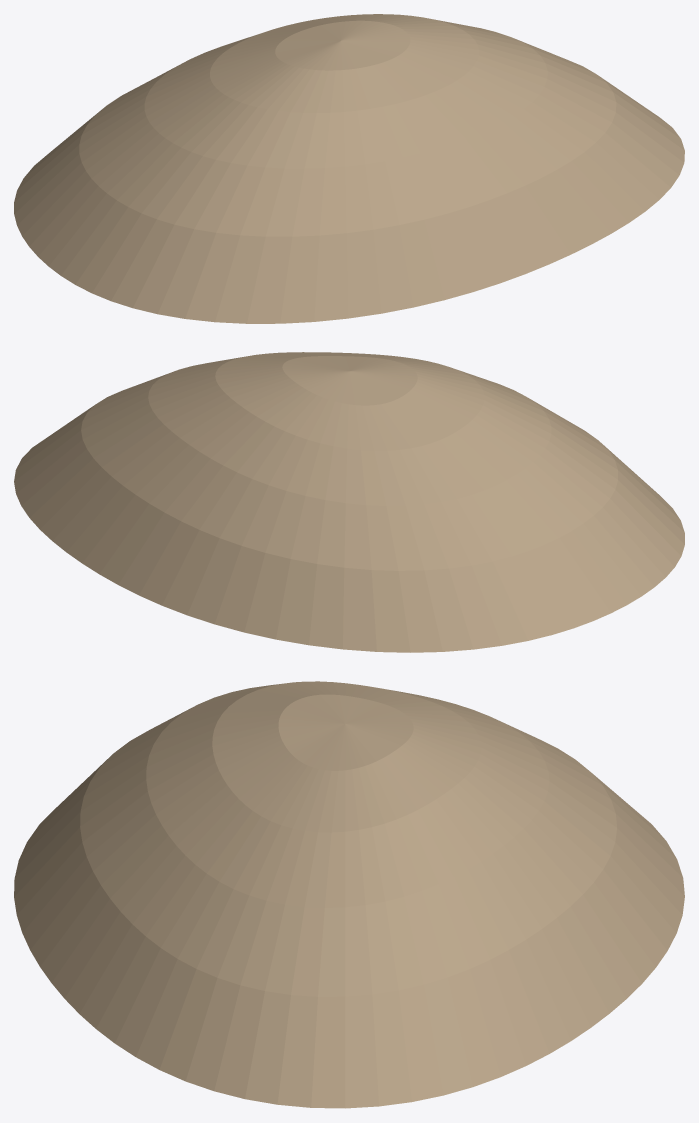
3 renders of one model, top to bottom at view 1: azimuth 30°, elevation 25°; view 2: azimuth 150°, elevation 25°; view 3: azimuth 270°, elevation 25°, orthographic. The views are drawn at different scales.
Visible parts, largest first — view 1: low-microbial-mound-full-analytic-exterior; view 2: low-microbial-mound-full-analytic-exterior; view 3: low-microbial-mound-full-analytic-exterior.
Part boxes in pixels (x1,y1,x2,y2): low-microbial-mound-full-analytic-exterior: (14, 14, 684, 323); low-microbial-mound-full-analytic-exterior: (14, 352, 684, 652); low-microbial-mound-full-analytic-exterior: (14, 681, 684, 1108).
Bounding box in the file's own units: 0.6503 × 0.1612 × 0.4978.
